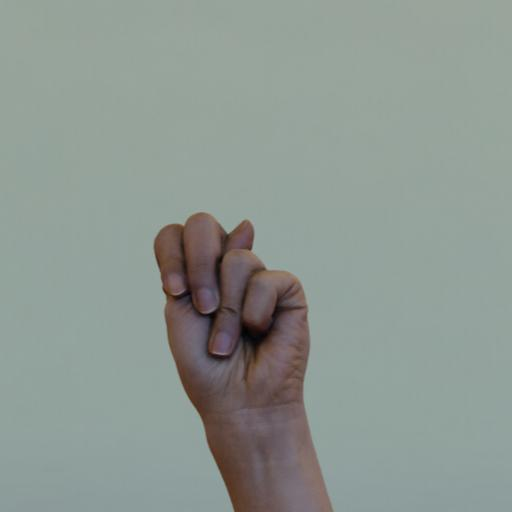N: (147, 208, 318, 420)
